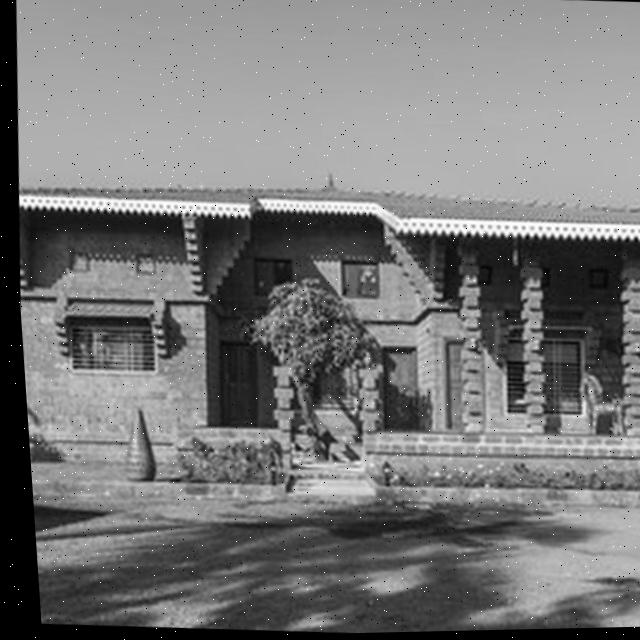building: (12, 165, 640, 525)
